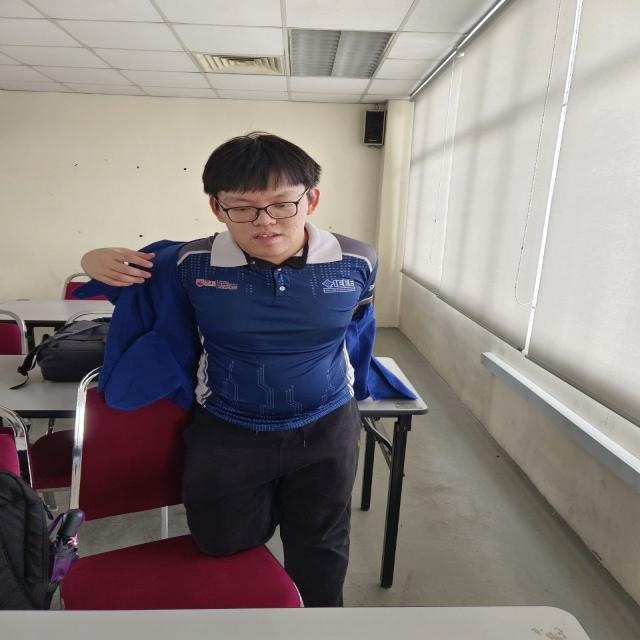person_without_labcoat: (83, 133, 377, 606)
